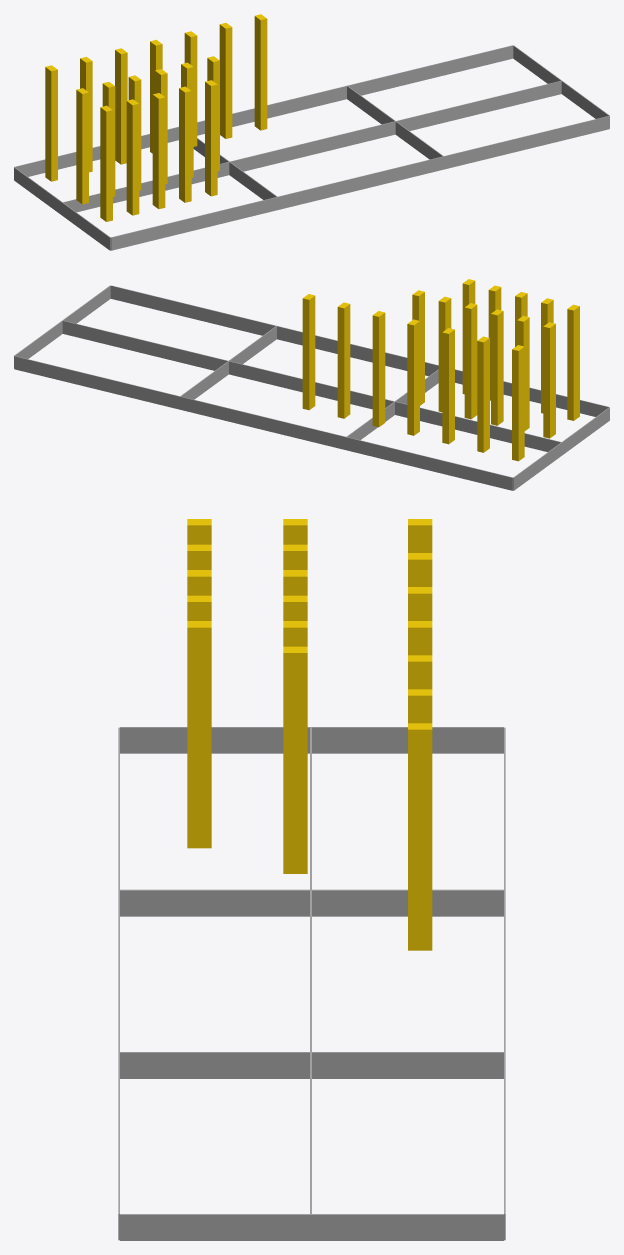
Rendered from Chữ nổi mica khung sắt.obj.
The picture shows the model from 3 angles, top to bottom: view 1: azimuth 30°, elevation 25°; view 2: azimuth 150°, elevation 25°; view 3: azimuth 270°, elevation 25°; orthographic projection. The views are drawn at different scales.
Visible parts, largest first — view 1: khungsat, micavang; view 2: khungsat, micavang; view 3: khungsat, micavang.
Boxes of the visible parts, x1,y1,x2,y2 form: khungsat: (14, 45, 609, 250); micavang: (45, 14, 267, 221); khungsat: (14, 285, 609, 490); micavang: (302, 279, 579, 461); khungsat: (118, 727, 505, 1240); micavang: (187, 519, 432, 950).
Bounding box in the file's own units: 1.2 × 0.284 × 0.404.
